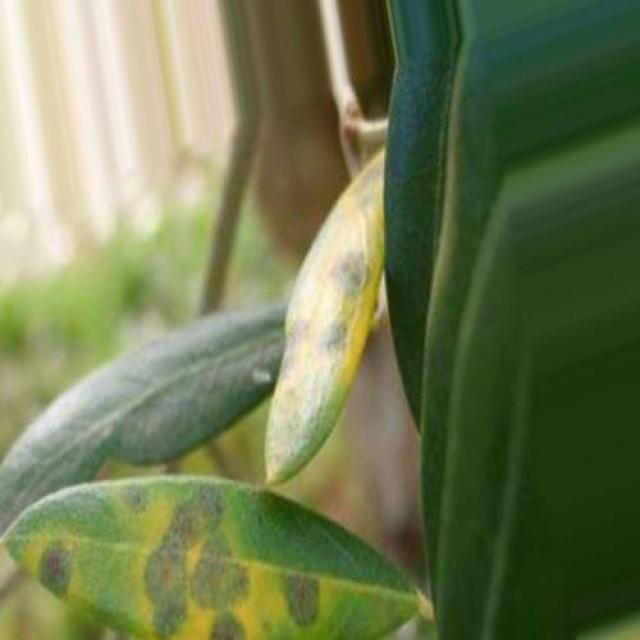Peacock Eye: (4, 476, 412, 637), (265, 147, 383, 482)
